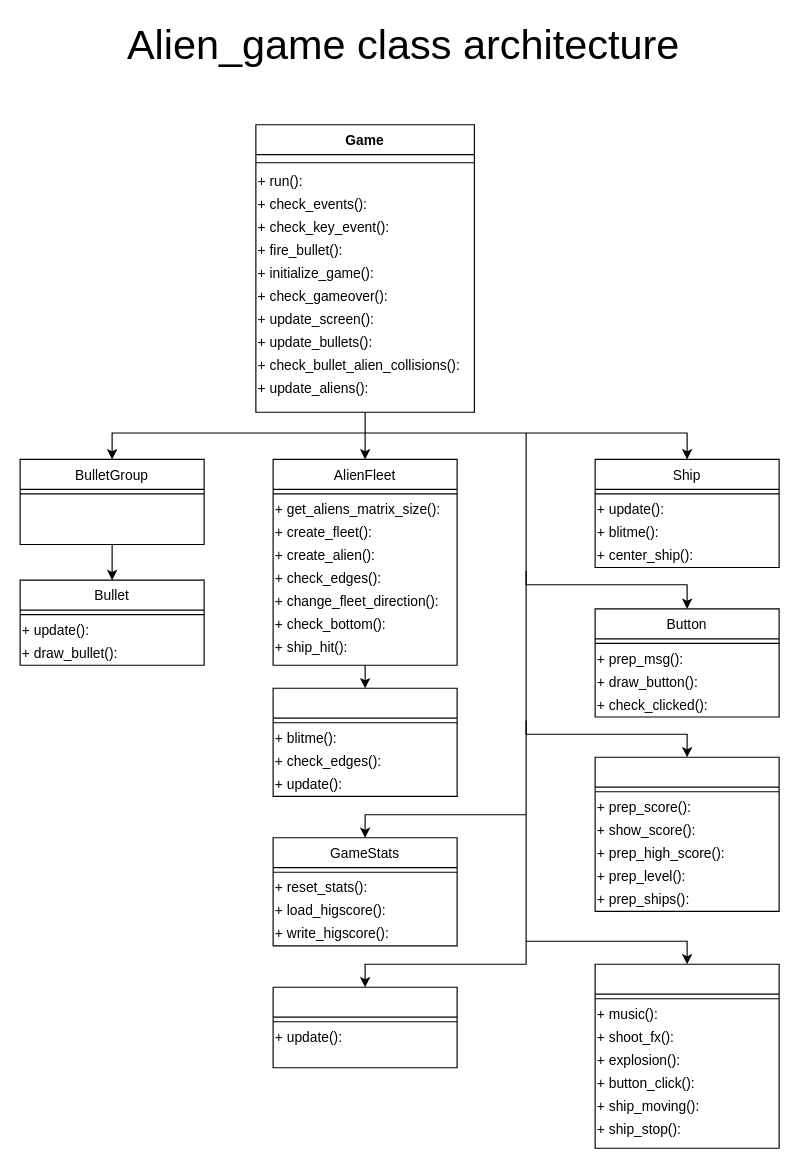
Some shapes in this 799 by 1168 pixel diagram are drawn without their labels. Each missing label, with the box of its shape:
Alien: (272, 687, 457, 796)
Explosion: (272, 986, 457, 1068)
Scoreboard: (594, 756, 779, 911)
SoundFX: (594, 963, 779, 1148)
